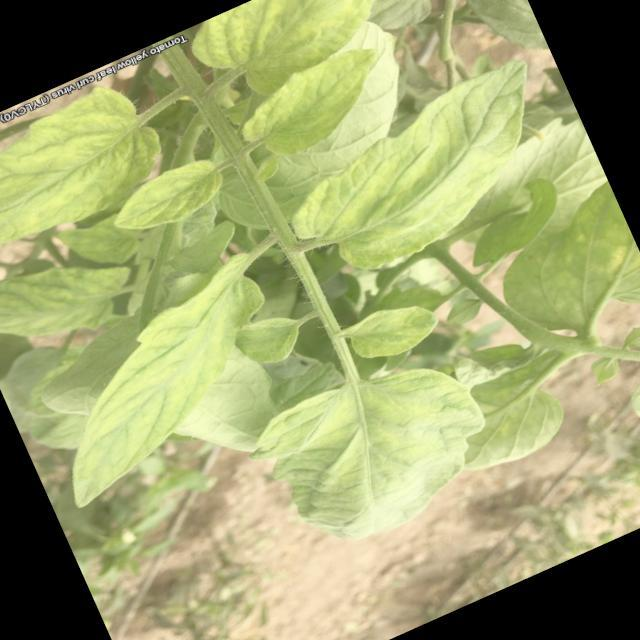Tomato yellow virus leaf: (9, 248, 316, 508), (285, 49, 583, 288), (234, 328, 516, 572), (0, 72, 180, 282), (182, 0, 433, 116), (225, 38, 407, 172), (0, 224, 150, 376), (105, 152, 232, 246), (340, 287, 452, 373)
